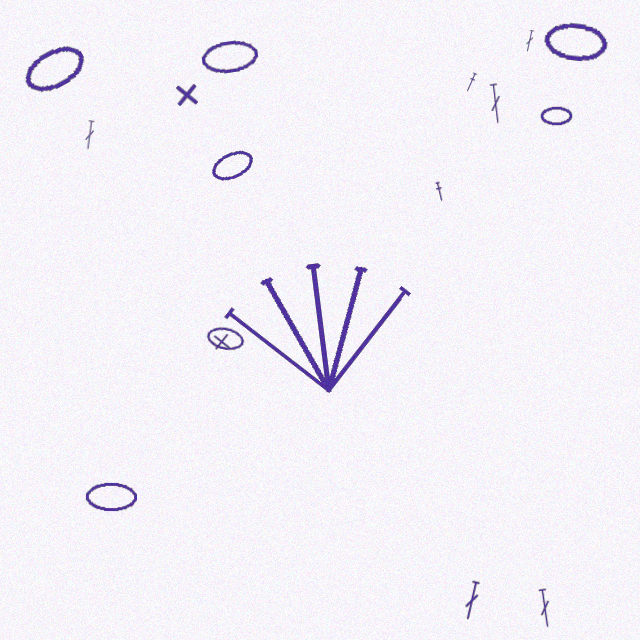chain: (17, 37, 91, 100), (542, 19, 610, 64), (199, 37, 260, 77), (207, 144, 258, 186), (85, 482, 137, 512), (205, 324, 246, 353), (540, 106, 573, 126)
double: (461, 580, 482, 621), (536, 588, 554, 628), (487, 83, 504, 124), (83, 120, 96, 150), (524, 30, 535, 52)
fan: (211, 233, 428, 406)
half_double: (464, 72, 478, 93), (434, 181, 445, 202)
single: (172, 80, 201, 109), (210, 330, 233, 353)
